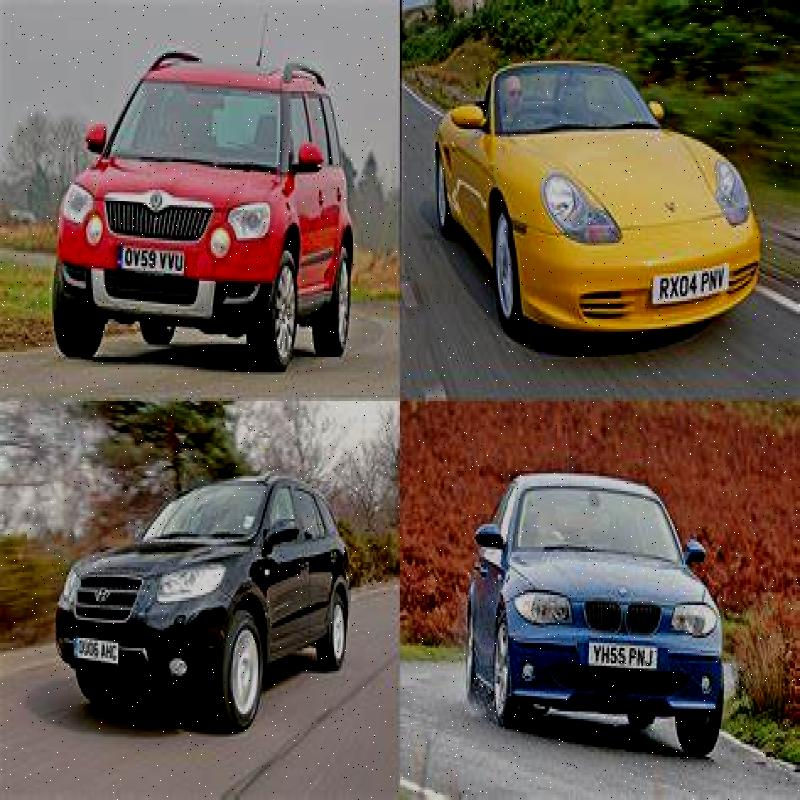car: (432, 45, 800, 374), (49, 41, 364, 384), (456, 456, 742, 769), (48, 464, 355, 730)
